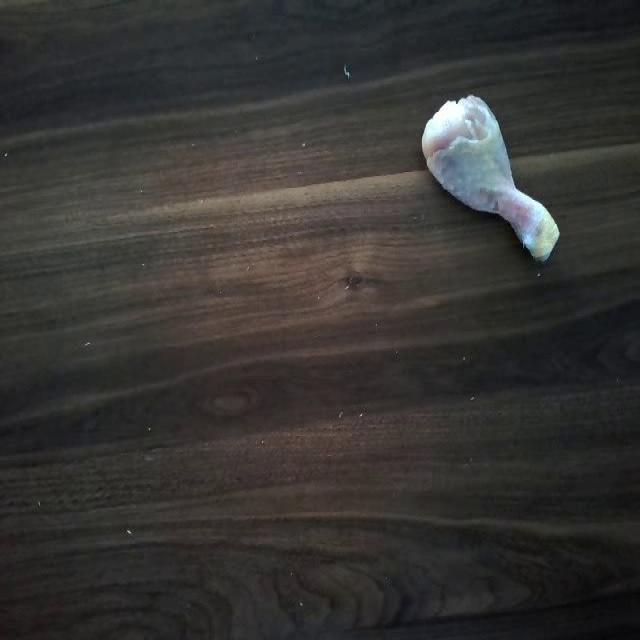leg: (408, 85, 566, 268)
